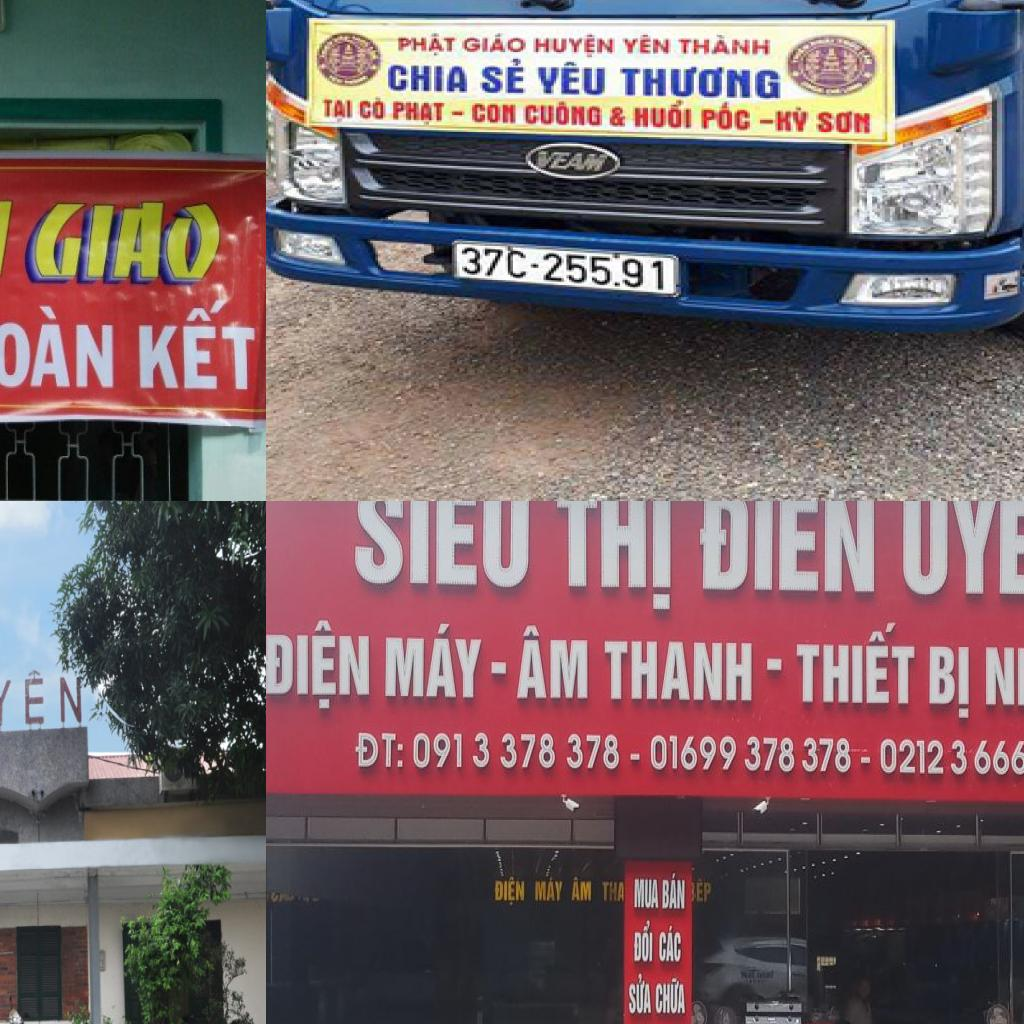text: (27, 198, 232, 282), (698, 501, 876, 595), (353, 501, 533, 590), (555, 501, 673, 613), (900, 501, 1024, 597), (793, 620, 917, 708), (450, 246, 674, 294), (0, 302, 115, 390), (603, 639, 754, 704), (266, 618, 372, 710), (649, 732, 853, 776), (383, 621, 487, 702), (411, 732, 621, 772), (618, 60, 786, 102), (512, 622, 591, 703), (879, 737, 1024, 778), (381, 57, 472, 95), (533, 58, 615, 100), (927, 644, 971, 722), (983, 630, 1024, 709), (620, 100, 701, 135), (534, 26, 618, 59), (676, 30, 778, 57), (475, 54, 531, 96), (523, 100, 607, 128), (354, 731, 405, 771), (702, 102, 758, 136), (462, 98, 523, 129), (459, 28, 531, 54), (393, 32, 462, 58), (814, 108, 874, 137), (391, 98, 449, 127), (758, 105, 814, 135), (618, 32, 678, 58), (314, 93, 358, 127), (654, 977, 688, 1016), (627, 971, 653, 1018), (355, 94, 393, 124), (661, 870, 687, 912), (658, 924, 683, 966), (493, 876, 526, 907), (633, 876, 661, 911), (632, 920, 654, 964), (534, 876, 566, 904), (600, 878, 626, 904), (570, 876, 593, 904), (695, 876, 713, 904)
